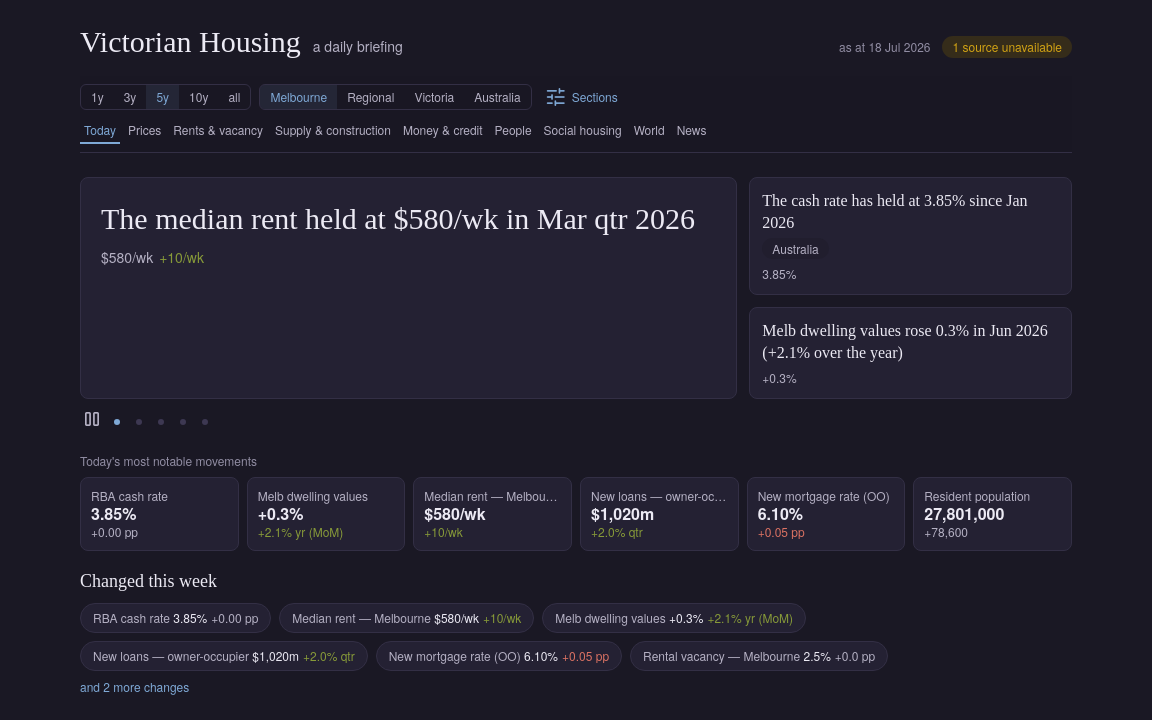
sections URL param (2.5) › the Sections popover opens sections and Reset returns to bare defaults
This screenshot has width=1152, height=720.
Expected: the heading "Victorian Housing" is shown, [80,24,301,60]
Click the button "Sections". click: (581, 97)
box: [544,85,618,109]
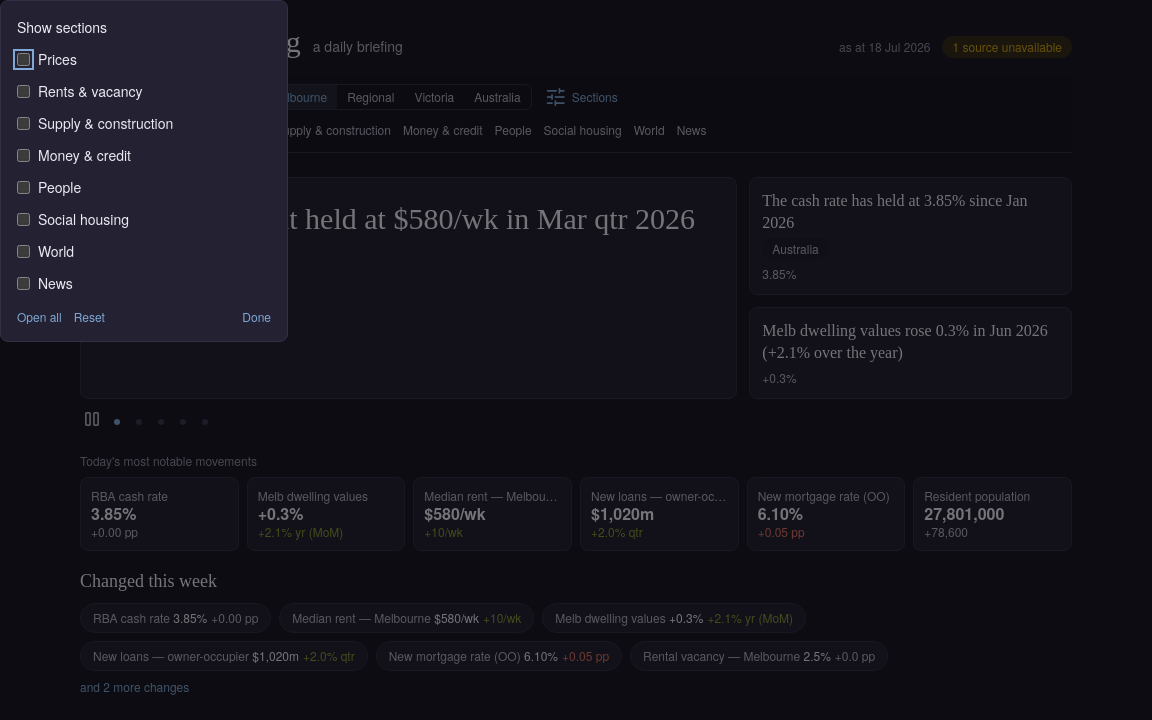
Click the checkbox labelled "Prices". click: (24, 59)
box: [17,52,30,66]
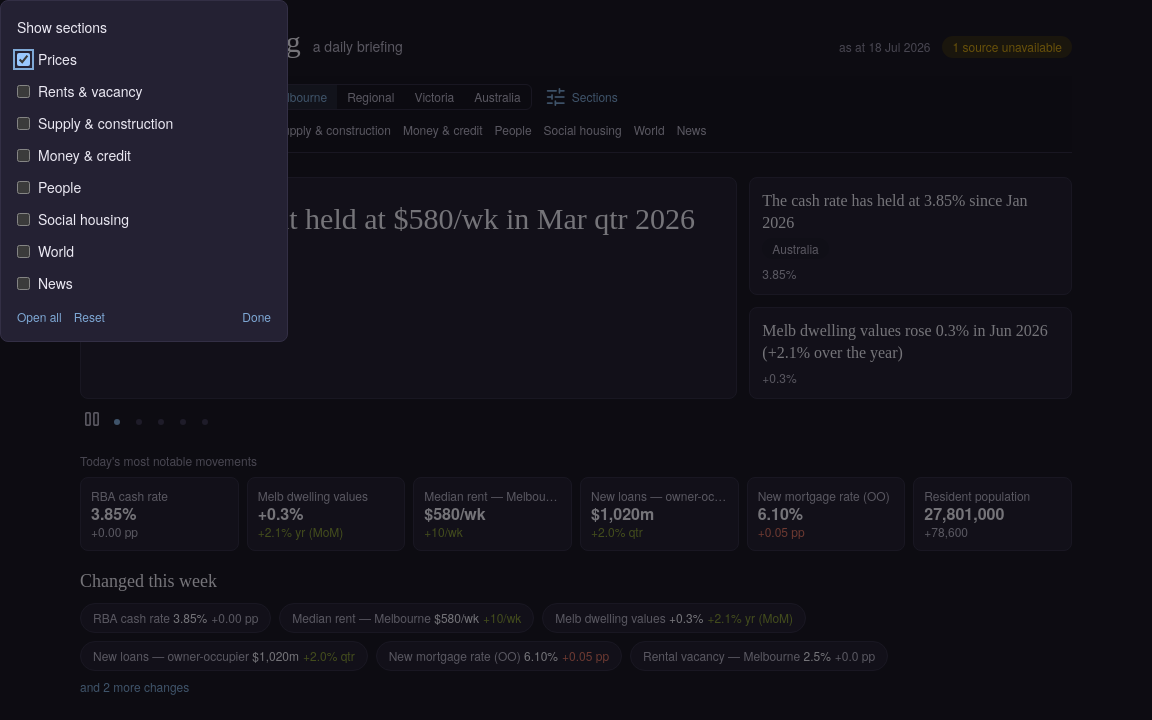
Click the button "Reset". click: (89, 317)
box: [74,309,105,325]
(page scrolled)
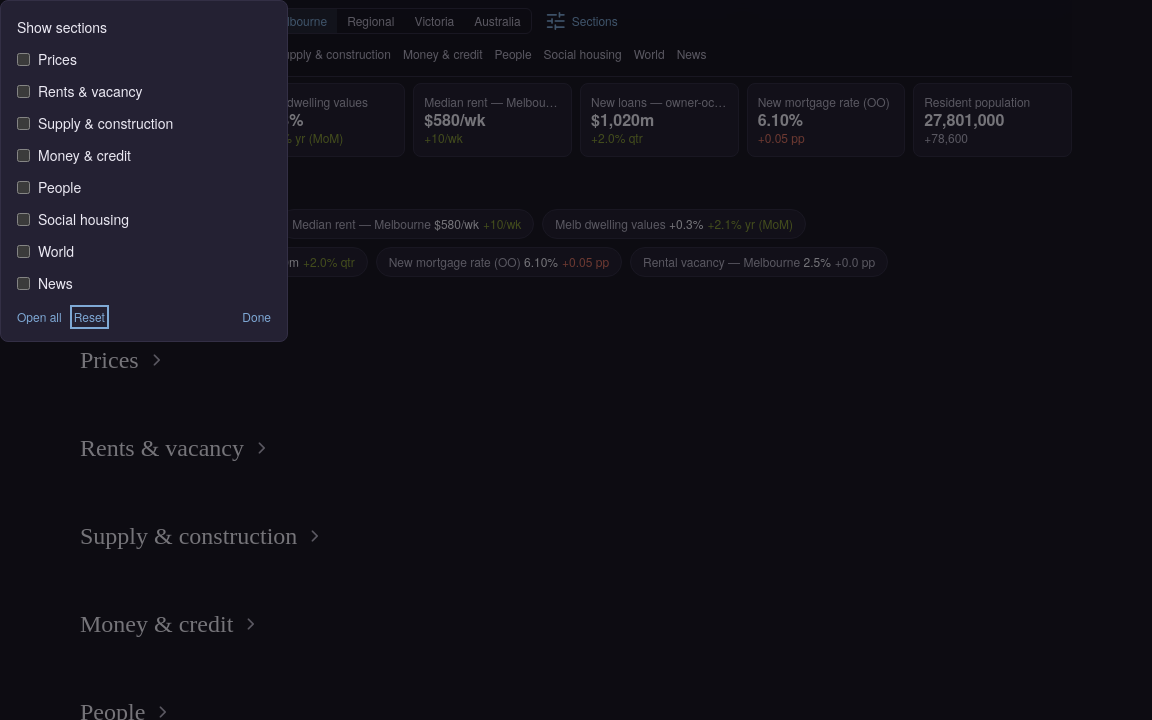
Expected: the button "Prices" is collapsed, [80,344,169,376]
